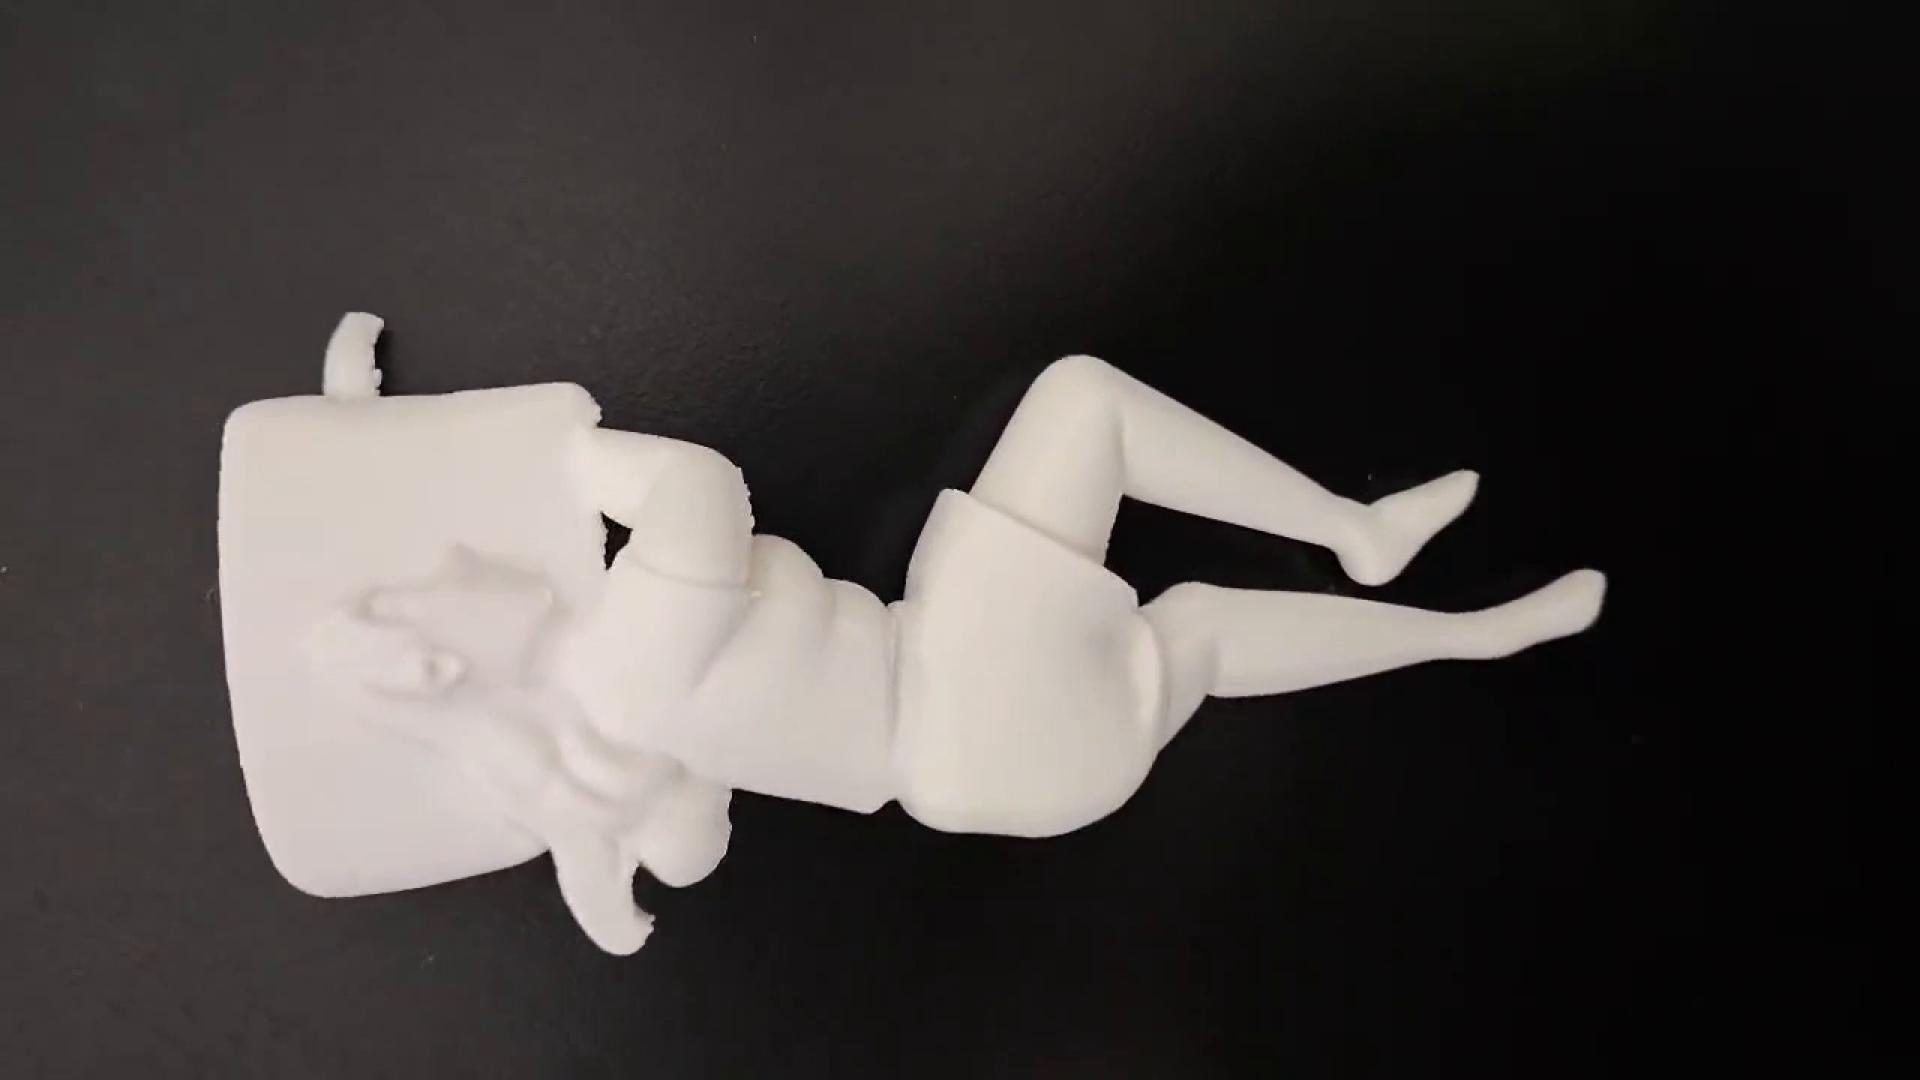Good-style: (216, 313, 1613, 955)
